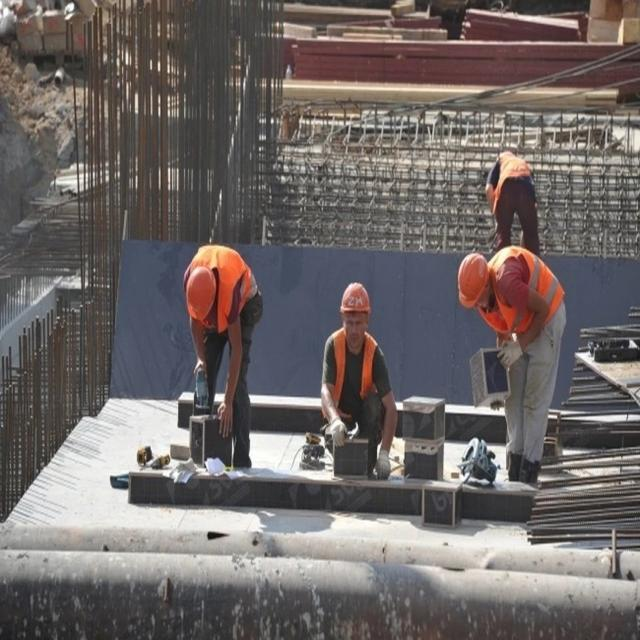Helmet: (459, 253, 494, 308), (189, 267, 218, 323), (341, 283, 373, 323)
Jacket: (492, 251, 561, 322), (329, 334, 379, 429), (203, 250, 253, 321)
